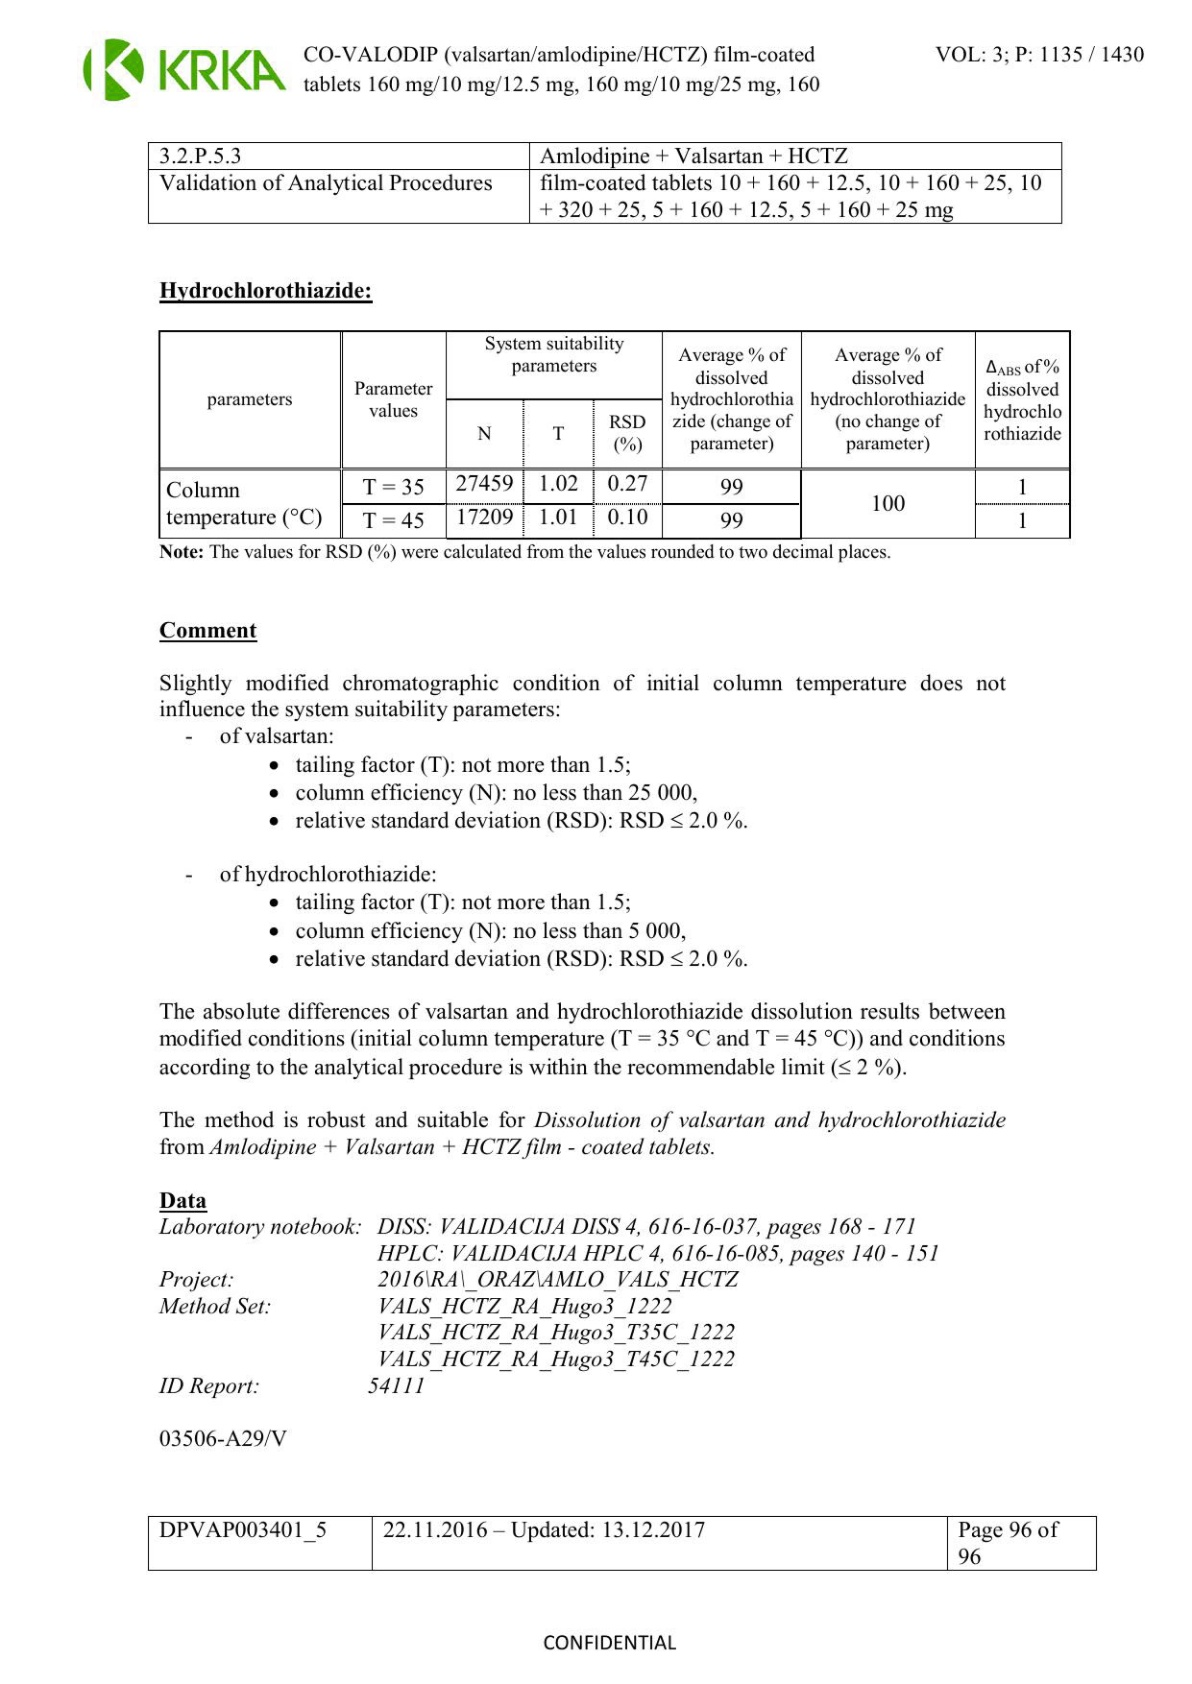full_lined: (147, 141, 1063, 224), (146, 1515, 1097, 1571)
merged_cells: (157, 329, 1072, 540)
nolines: (155, 1216, 943, 1457)
